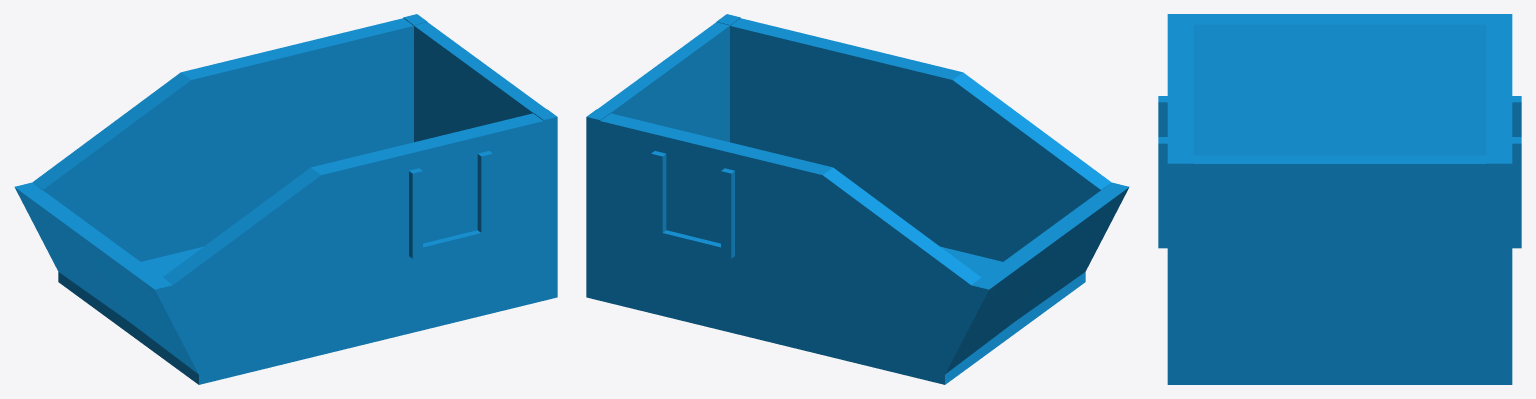
The model's file is Kontajnerblend.fbx.
3 renders of one model, left to right at view 1: azimuth 30°, elevation 25°; view 2: azimuth 150°, elevation 25°; view 3: azimuth 270°, elevation 25°, orthographic. The views are drawn at different scales.
Parts seen in each view (by area): view 1: Cube; view 2: Cube; view 3: Cube.
Part boxes in pixels (box(x1,y1,x2,y2)): Cube: box(14, 14, 557, 384); Cube: box(586, 14, 1129, 384); Cube: box(1158, 14, 1521, 384).
Size of the model in its own units: 1041 by 446 by 664.
